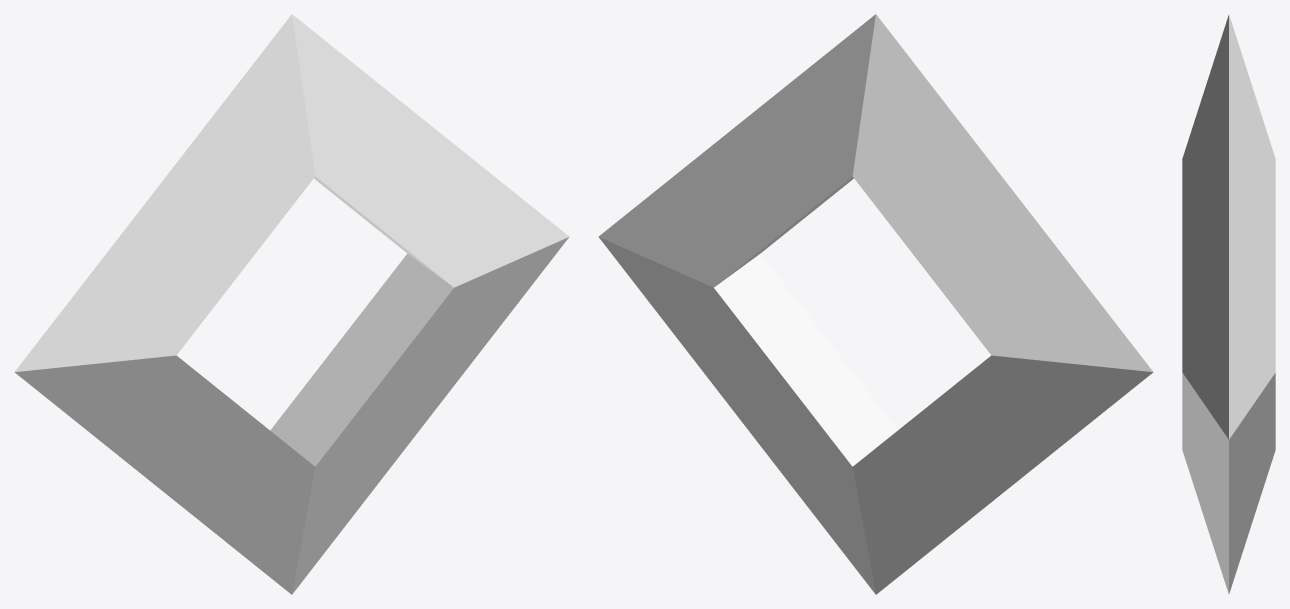
The model's file is core.obj.
3 views of the same model, side by side, from view 1: azimuth 30°, elevation 25°; view 2: azimuth 150°, elevation 25°; view 3: azimuth 270°, elevation 25° (orthographic).
Visible parts, largest first — view 1: ringCore_立方体.002; view 2: ringCore_立方体.002; view 3: ringCore_立方体.002.
Boxes of the visible parts, box(x1,y1,x2,y2) form: ringCore_立方体.002: box(14, 14, 569, 594); ringCore_立方体.002: box(598, 14, 1153, 594); ringCore_立方体.002: box(1182, 15, 1275, 593).
Bounding box in the file's own units: 0.7071 × 0.7071 × 0.1032.
1 material, 1 textured.
